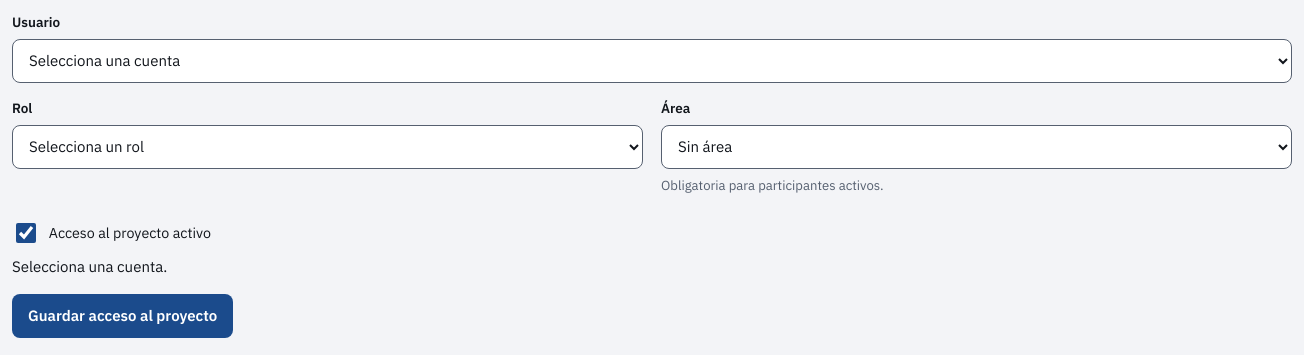
el resumen enumera solo diferencias efectivas y vuelve a Sin cambios al deshacer
Select "Carla · ya está en el proyecto" in the dropdown labelled "Usuario". click: x=652, y=61
box: [12,39,1292,83]
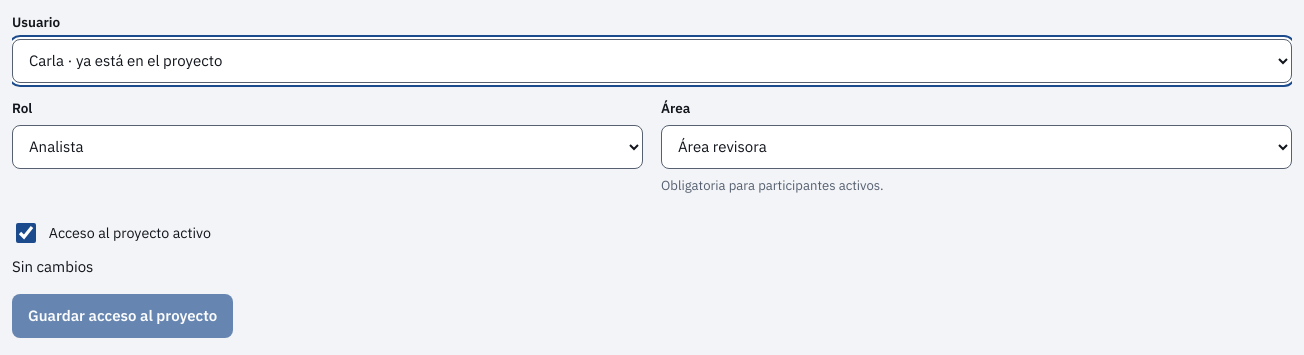
Select "Administración" in the dropdown labelled "Rol". click: x=328, y=147
box: [12,125,643,169]
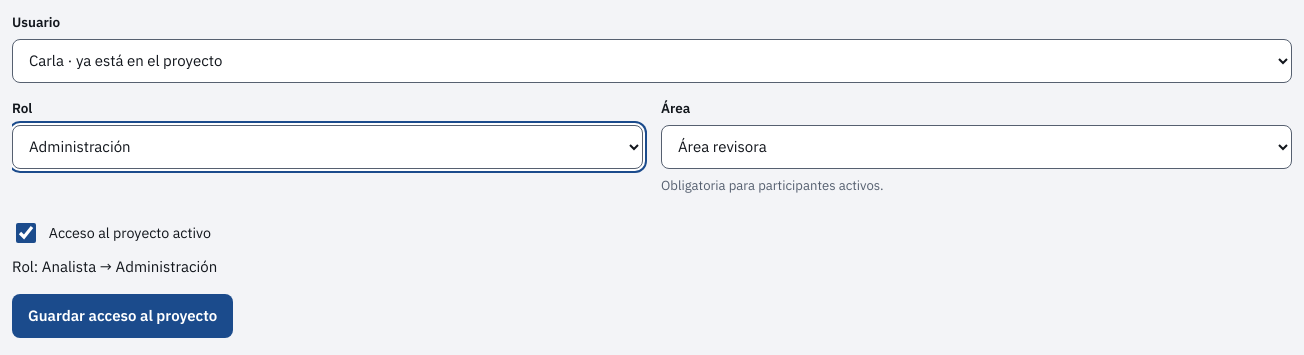
Select "Sin área" in the dropdown labelled "Área". click: x=976, y=147
box: [661,125,1292,169]
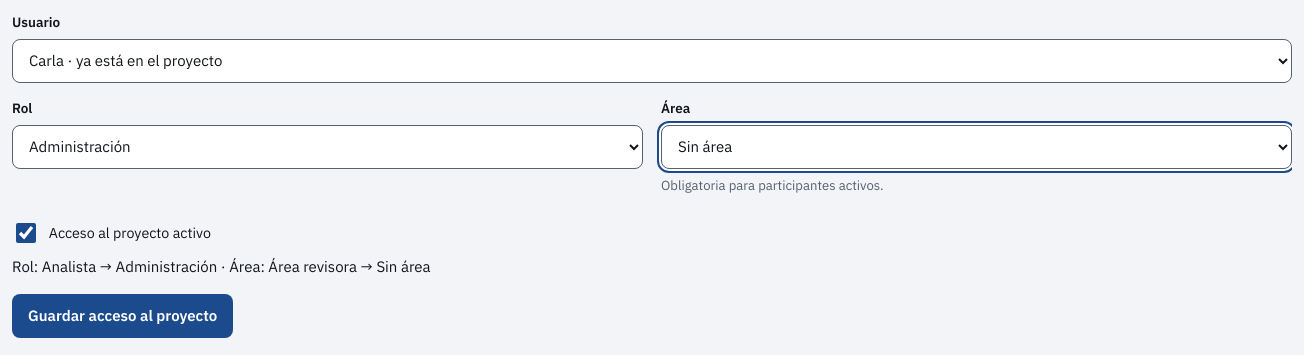
Select "Analista" in the dropdown labelled "Rol". click: x=328, y=147
box: [12,125,643,169]
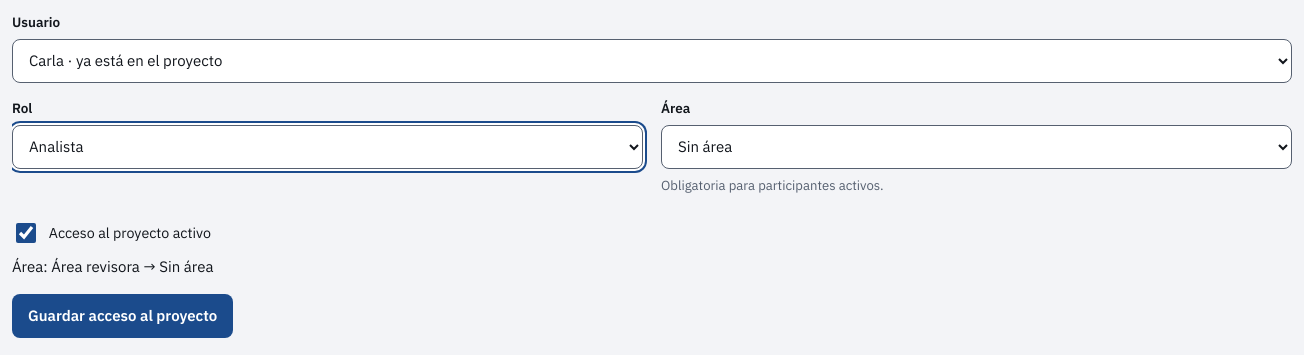
Select "Área revisora" in the dropdown labelled "Área". click: x=976, y=147
box: [661,125,1292,169]
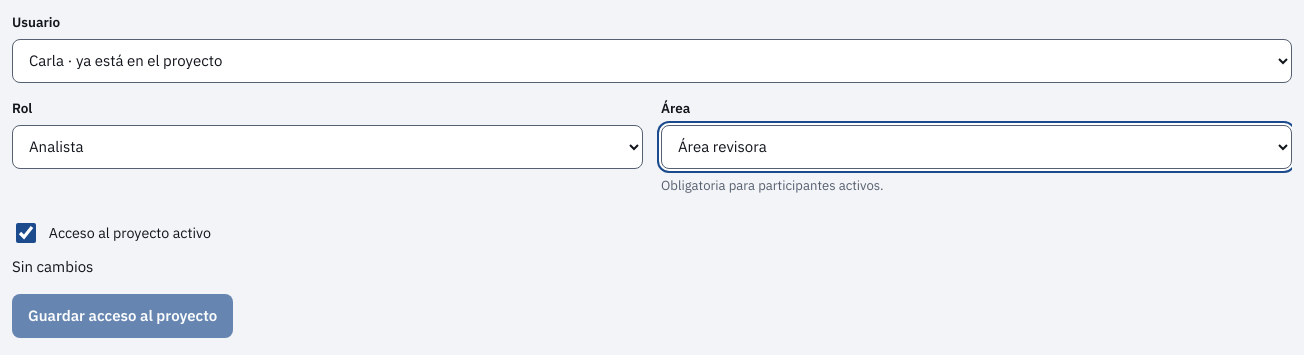
Check: the text "Sin cambios" is shown, box [12,257,93,276]
